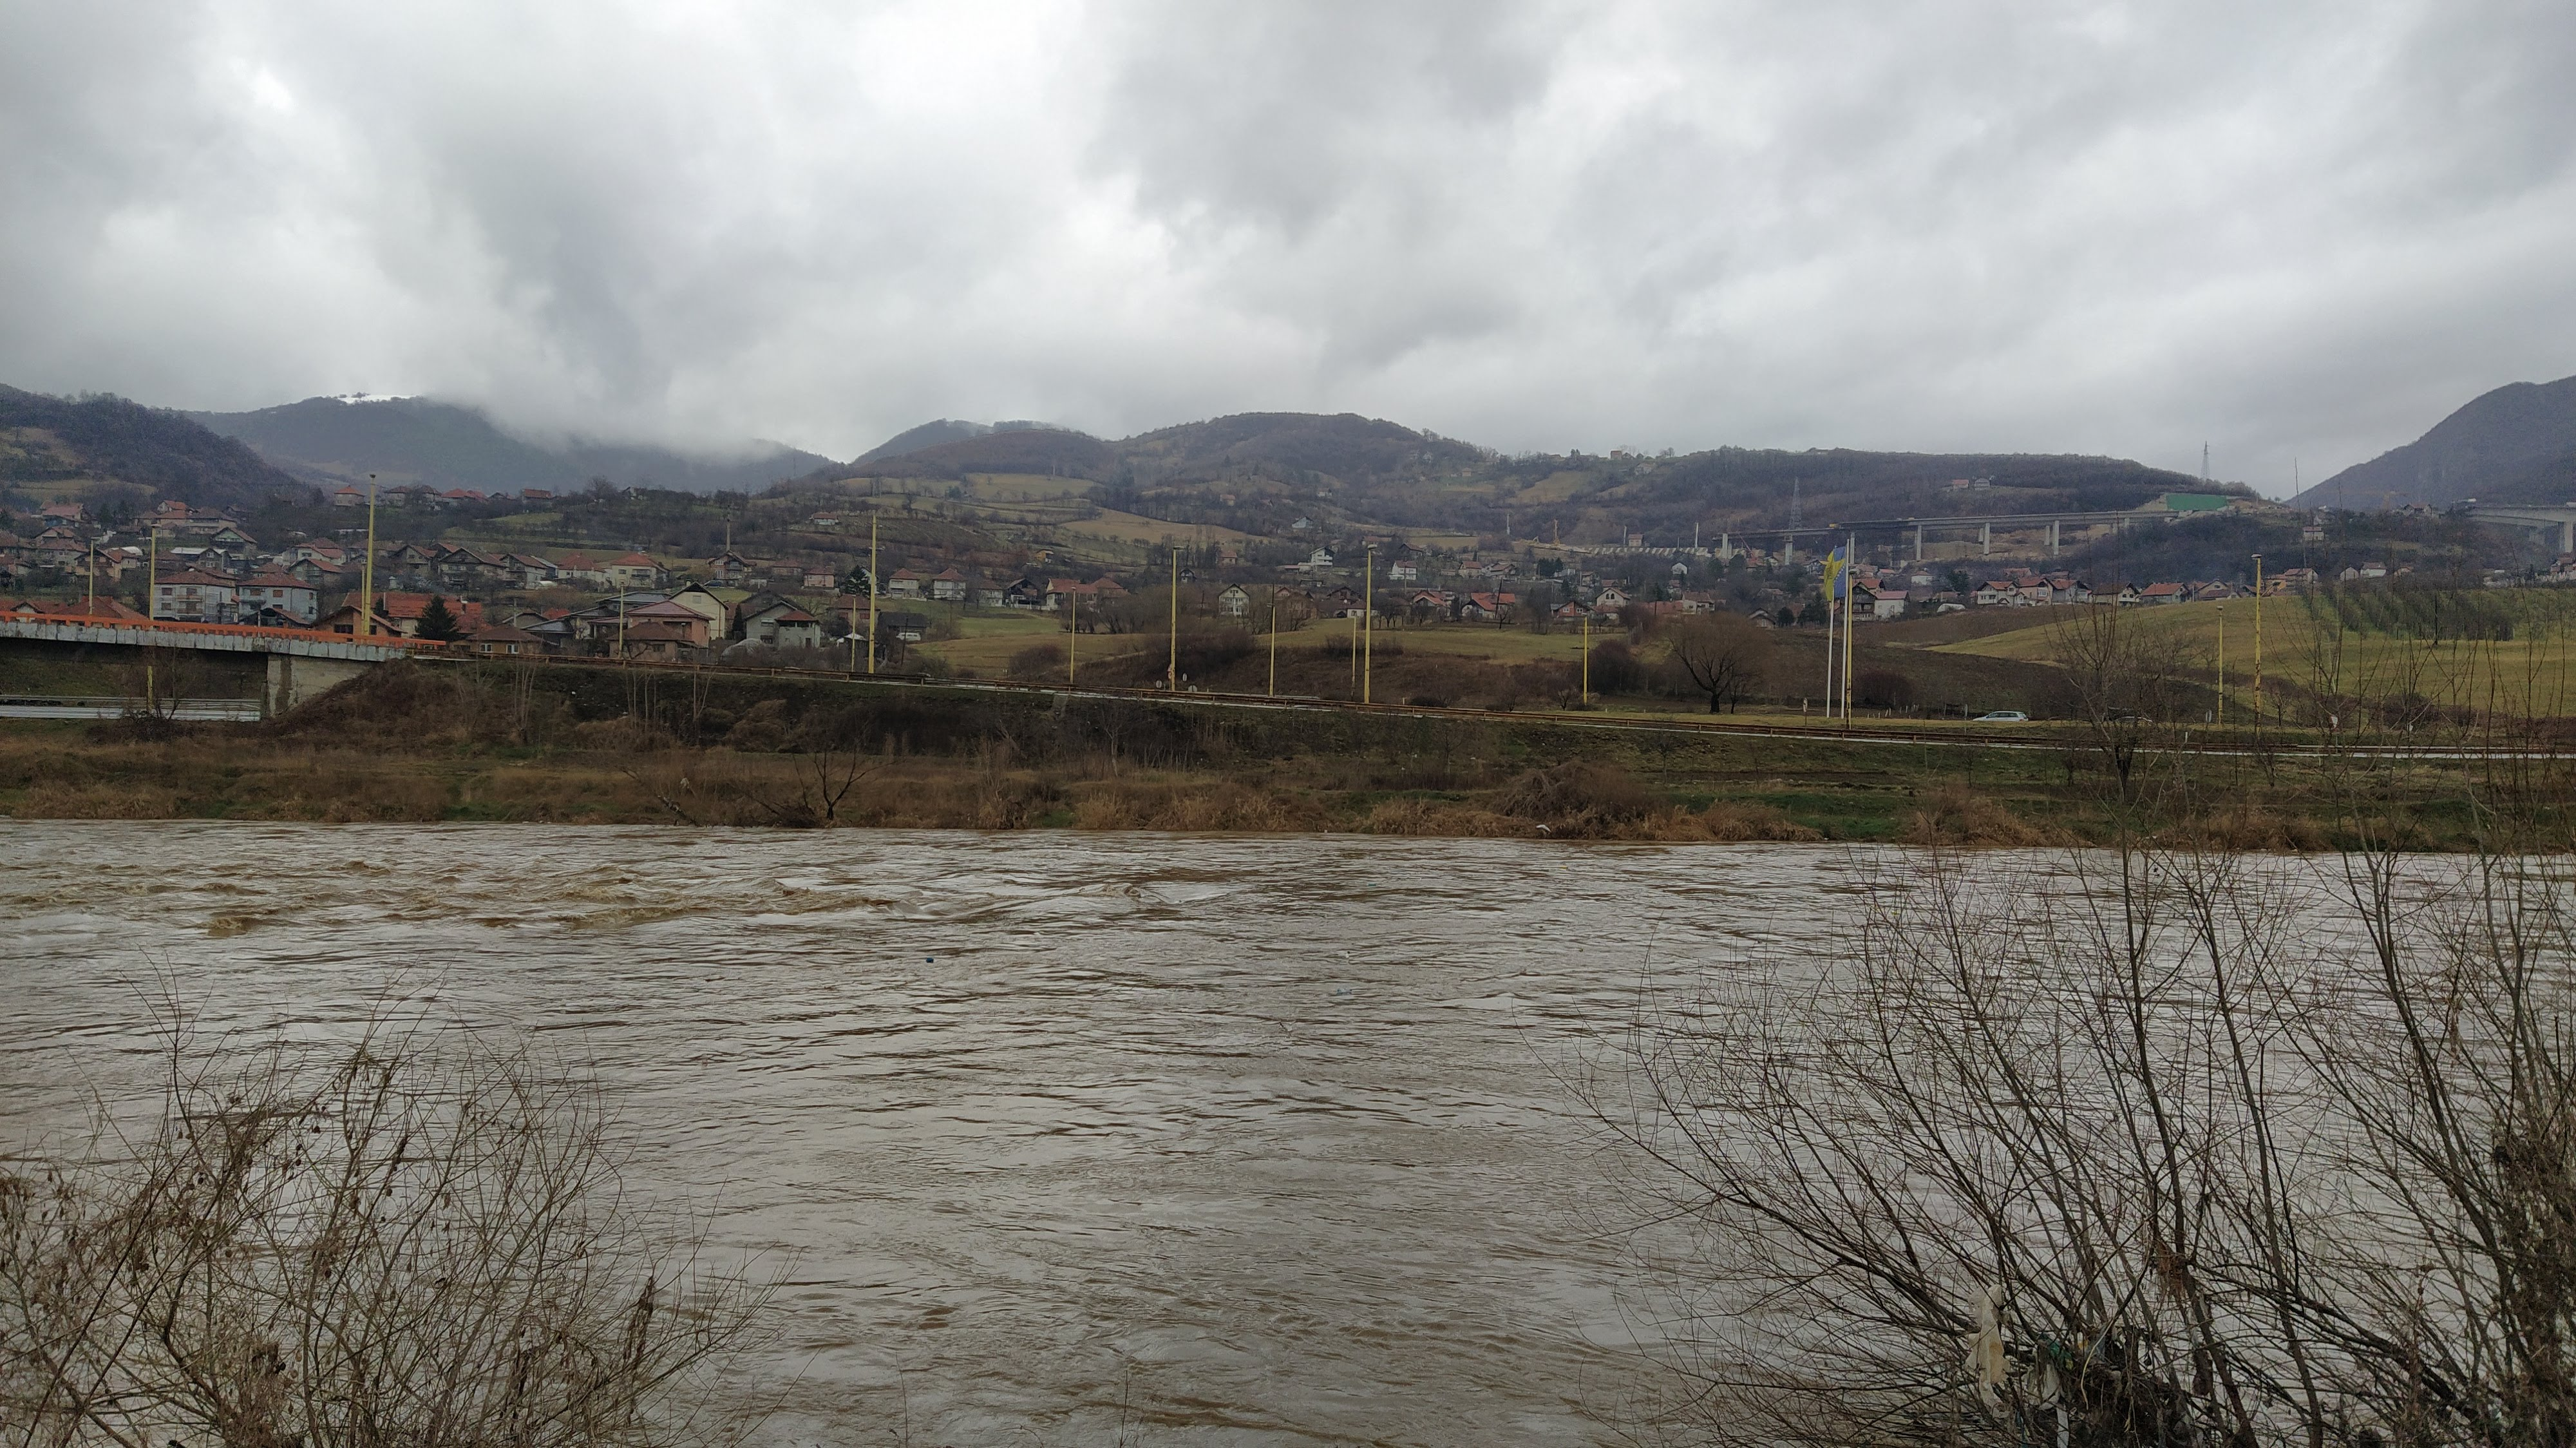Plastic Bottle: (701, 1053, 708, 1066), (1338, 988, 1352, 993), (925, 956, 932, 961)
